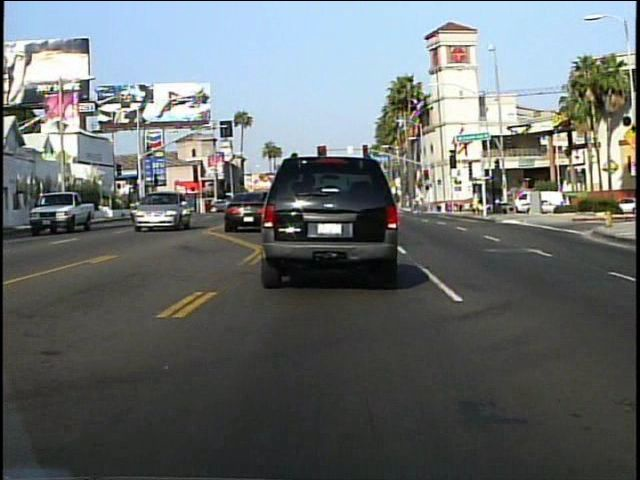person: (170, 190, 186, 222)
